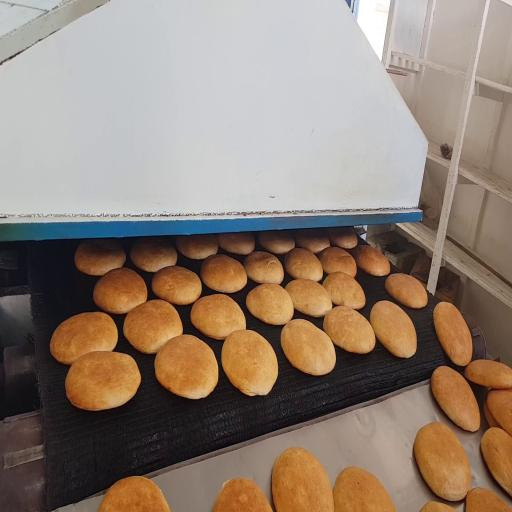bread: (414, 422, 470, 501), (66, 352, 141, 410), (155, 335, 218, 399), (272, 448, 334, 511), (222, 330, 278, 395), (50, 312, 117, 364), (431, 366, 480, 431), (124, 300, 182, 353), (281, 320, 335, 375), (334, 467, 395, 511), (370, 301, 417, 357), (98, 476, 170, 511), (323, 306, 375, 353), (94, 268, 147, 314), (191, 294, 245, 339), (434, 302, 472, 365), (481, 428, 511, 496), (246, 284, 293, 325), (152, 266, 201, 305), (213, 479, 272, 511), (75, 239, 126, 275), (286, 279, 332, 317), (200, 255, 247, 292), (130, 237, 177, 273), (323, 272, 365, 309), (385, 274, 427, 308), (465, 360, 511, 389), (285, 248, 323, 281), (244, 252, 283, 284), (319, 247, 356, 277), (487, 390, 511, 435), (355, 246, 390, 276), (466, 488, 511, 511), (176, 235, 218, 259), (295, 229, 330, 254), (259, 231, 295, 254), (218, 233, 255, 255), (328, 228, 357, 248), (483, 399, 499, 427), (420, 502, 453, 511)
